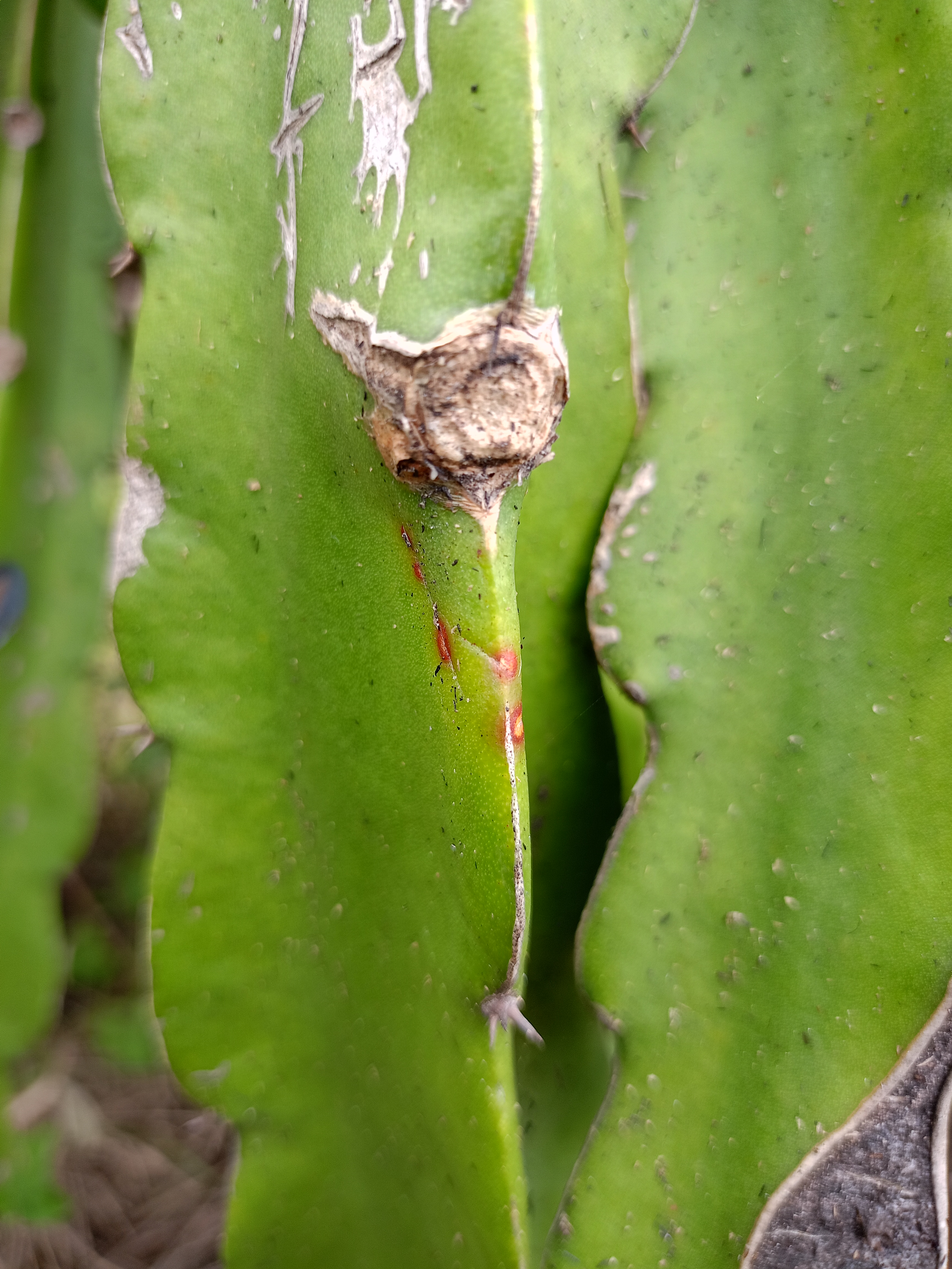stemcanker: (302, 279, 576, 533)
